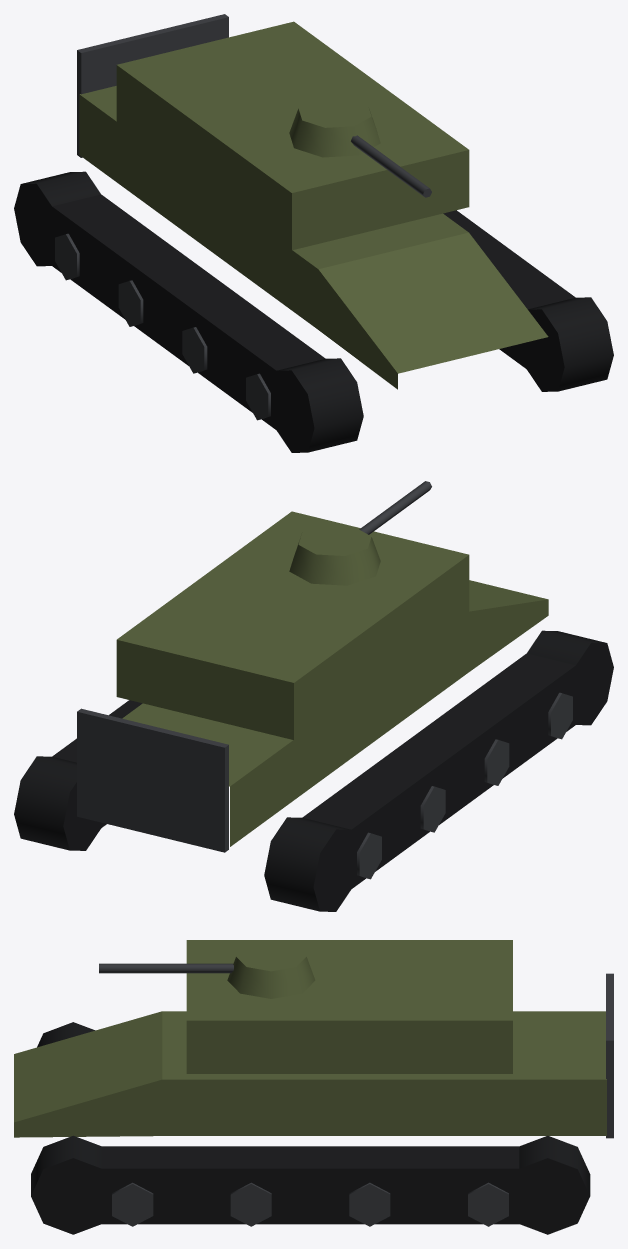
The model's file is veh_ground_apc_tracked_a06.glb.
3 renders of one model, top to bottom at view 1: azimuth 30°, elevation 25°; view 2: azimuth 150°, elevation 25°; view 3: azimuth 270°, elevation 25°, orthographic. The views are drawn at different scales.
Parts seen in each view (by area): view 1: body, track_r, track_l, gun, ramp; view 2: body, track_r, ramp, track_l, gun; view 3: body, track_l, gun, ramp, track_r.
Part boxes in pixels (x1,y1,x2,y2): body: (79, 21, 548, 389); track_r: (14, 171, 363, 452); track_l: (443, 210, 613, 391); gun: (289, 97, 431, 197); ramp: (77, 14, 228, 157); body: (116, 511, 548, 846); track_r: (264, 630, 613, 911); ramp: (77, 708, 228, 852); track_l: (14, 700, 142, 850); gun: (289, 481, 431, 585); body: (14, 940, 606, 1137); track_l: (31, 1135, 590, 1234); gun: (99, 941, 315, 998); ramp: (606, 973, 613, 1138); track_r: (37, 1022, 95, 1047).
Size of what is drawn, in the model's own units: 3.35 by 2.37 by 6.13.
